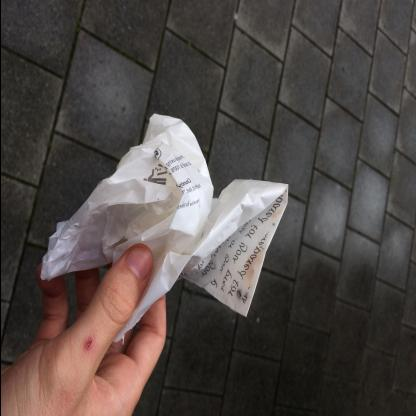plastik: (37, 113, 290, 344)
